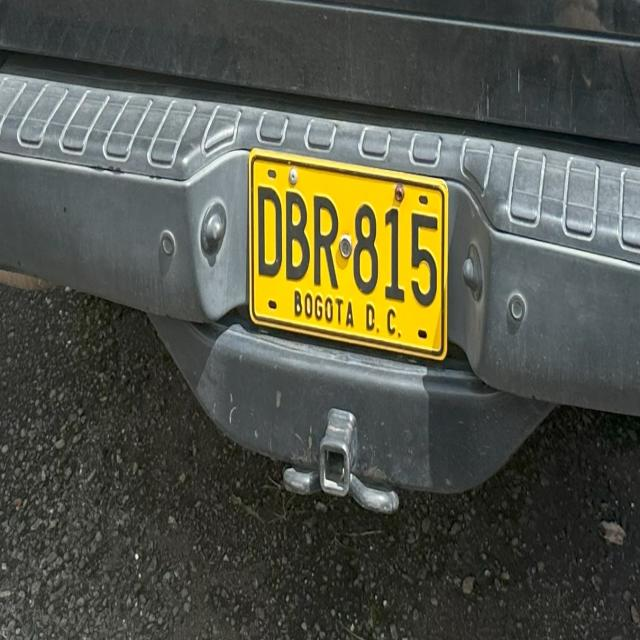number plate: (248, 149, 447, 357)
